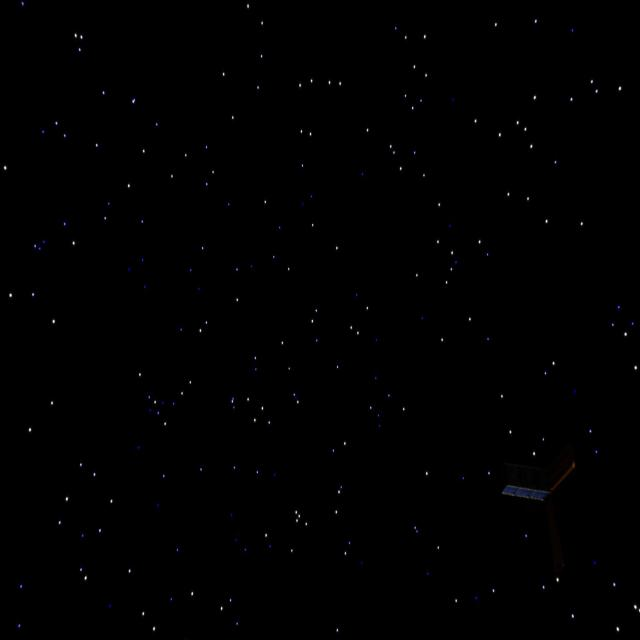medium_debris: (503, 419, 587, 581)
